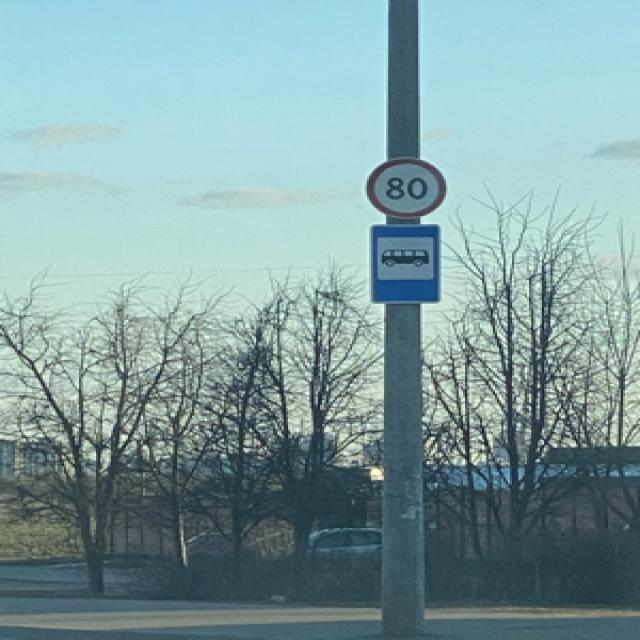speedlimit: (365, 155, 444, 216)
